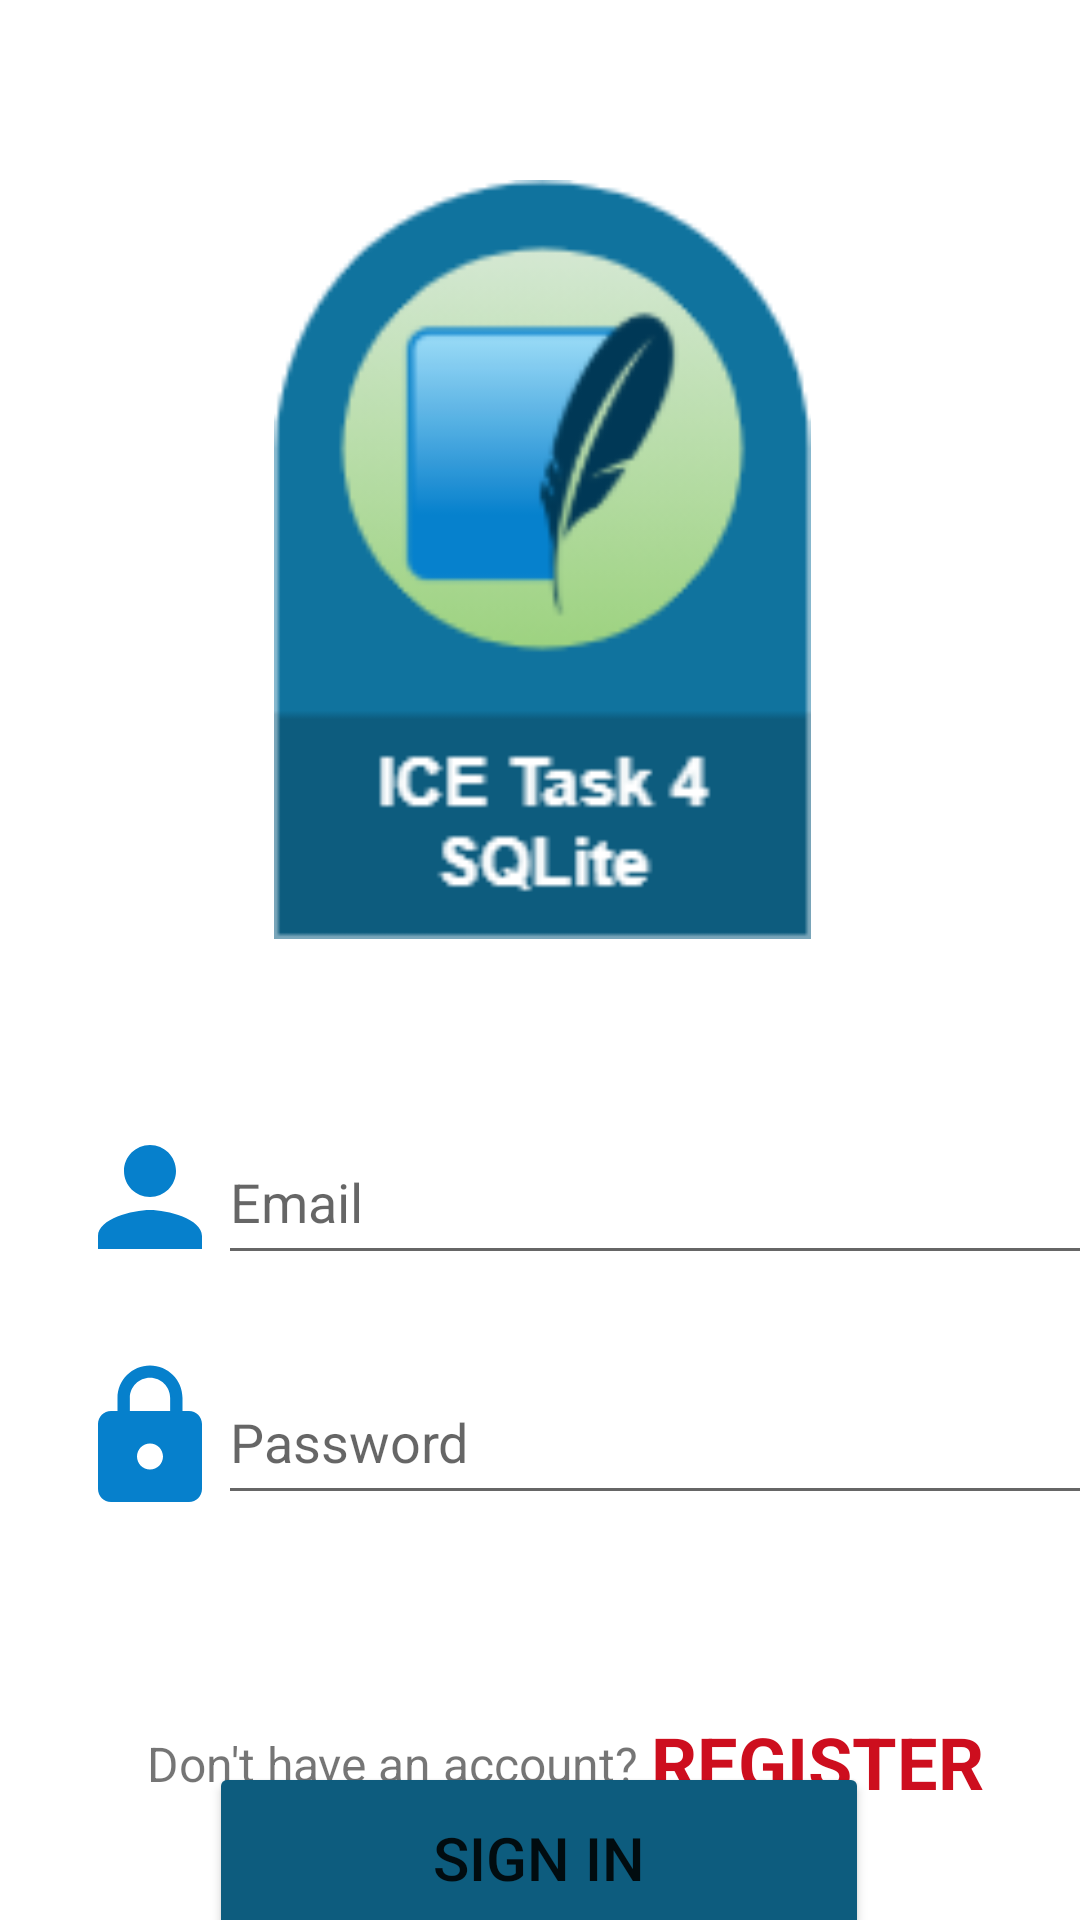

Icon click points for this 1080 x 1920 phone screenshot, format point (x, y):
lock: point (150, 1433)
person: point (150, 1197)
